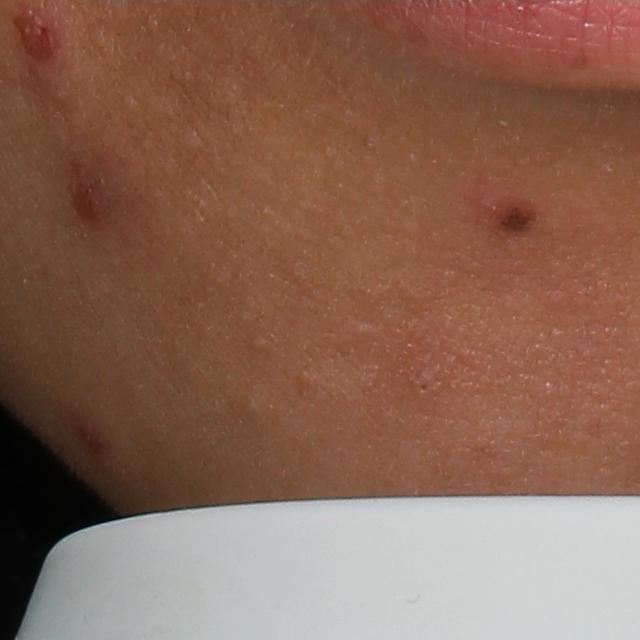comedo: (249, 332, 269, 354)
papule: (11, 2, 60, 67), (67, 407, 109, 456), (67, 179, 106, 227)
